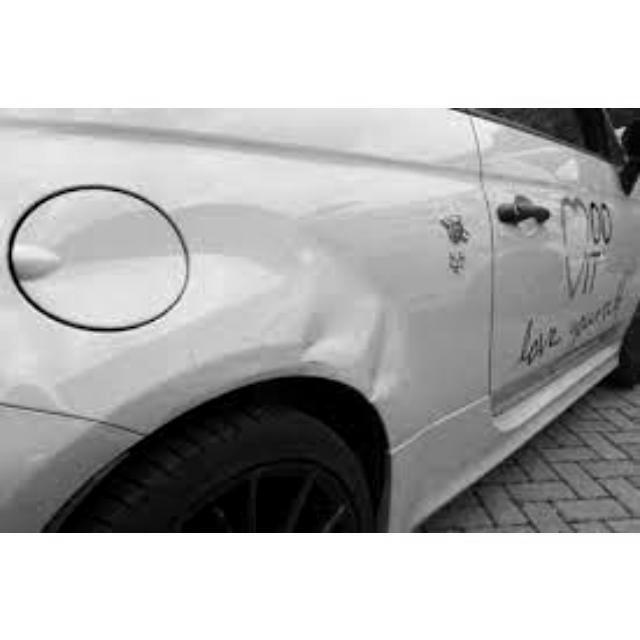quaterpanel-dent: (1, 108, 478, 429)
